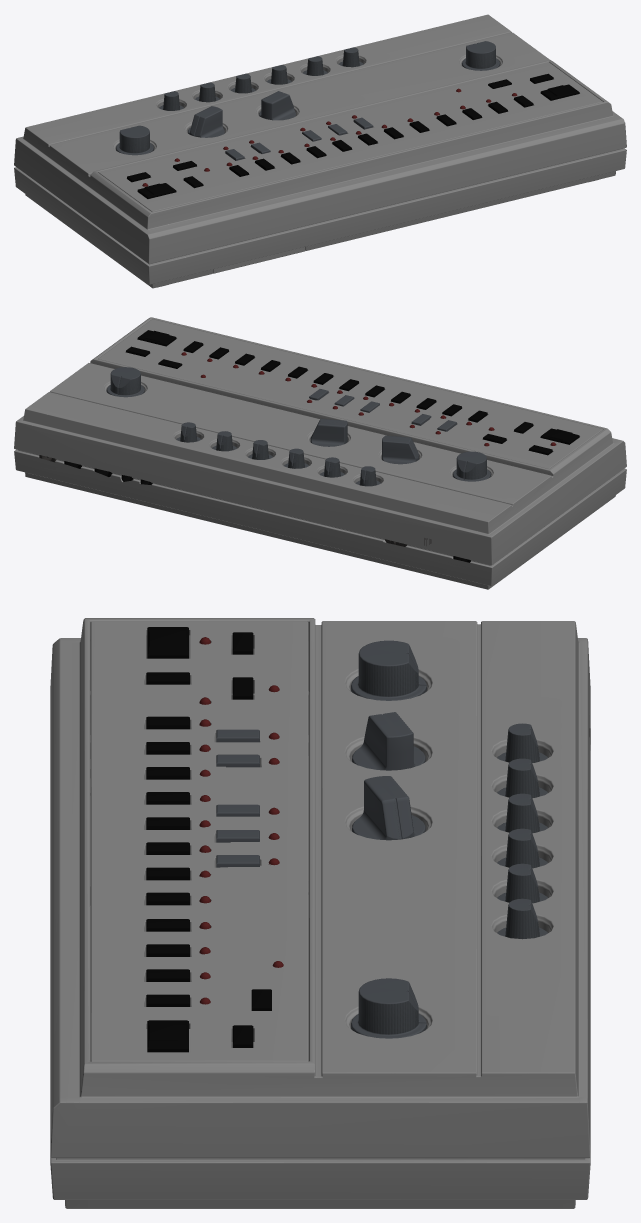
3 views of the same model, one above another, from view 1: azimuth 30°, elevation 25°; view 2: azimuth 150°, elevation 25°; view 3: azimuth 270°, elevation 25° (orthographic). The views are drawn at different scales.
Visible parts, largest first — view 1: body, knob.filter, knob.002, knob.track-mode, knob.tempo, knob.volume.001, knob.track-mode.001, knob.003, battery.lit, knob, knob.run-stop, knob.run-stop.001; view 2: body, knob.filter, knob.002, knob.track-mode, knob.volume.001, knob.tempo, knob.track-mode.001, knob.003, knob, knob.run-stop.001, knob.run-stop; view 3: body, knob.filter, knob.002, knob.tempo, knob.volume.001, knob.track-mode.001, knob.track-mode, knob.003, knob, knob.run-stop.001, knob.run-stop, knob.001.
Part boxes in pixels (x1=…): body: x1=14, y1=14, x2=626, y2=288; knob.filter: x1=159, y1=47, x2=363, y2=110; knob.002: x1=229, y1=121, x2=429, y2=176; knob.track-mode: x1=188, y1=106, x2=224, y2=137; knob.tempo: x1=116, y1=125, x2=153, y2=155; knob.volume.001: x1=462, y1=41, x2=499, y2=70; knob.track-mode.001: x1=259, y1=91, x2=295, y2=120; knob.003: x1=436, y1=95, x2=533, y2=126; battery.lit: x1=213, y1=247, x2=305, y2=273; knob: x1=302, y1=117, x2=373, y2=141; knob.run-stop: x1=137, y1=183, x2=176, y2=198; knob.run-stop.001: x1=540, y1=84, x2=579, y2=100; body: x1=14, y1=317, x2=626, y2=589; knob.filter: x1=176, y1=422, x2=380, y2=486; knob.002: x1=288, y1=366, x2=487, y2=422; knob.track-mode: x1=382, y1=435, x2=418, y2=464; knob.volume.001: x1=106, y1=367, x2=144, y2=397; knob.tempo: x1=453, y1=451, x2=490, y2=481; knob.track-mode.001: x1=310, y1=418, x2=347, y2=446; knob.003: x1=183, y1=341, x2=280, y2=371; knob: x1=309, y1=389, x2=379, y2=412; knob.run-stop.001: x1=137, y1=330, x2=176, y2=346; knob.run-stop: x1=540, y1=428, x2=579, y2=444; body: x1=50, y1=618, x2=590, y2=1208; knob.filter: x1=497, y1=723, x2=547, y2=939; knob.002: x1=146, y1=716, x2=189, y2=905; knob.tempo: x1=351, y1=640, x2=426, y2=700; knob.volume.001: x1=351, y1=978, x2=426, y2=1038; knob.track-mode.001: x1=352, y1=776, x2=425, y2=840; knob.track-mode: x1=352, y1=712, x2=425, y2=770; knob.003: x1=146, y1=919, x2=189, y2=1006; knob: x1=216, y1=804, x2=259, y2=867; knob.run-stop.001: x1=147, y1=1020, x2=188, y2=1052; knob.run-stop: x1=147, y1=627, x2=188, y2=658; knob.001: x1=216, y1=729, x2=259, y2=767.
Bounding box in the file's own units: 30.16 × 5.26 × 14.75.
2 materials, 1 textured.
